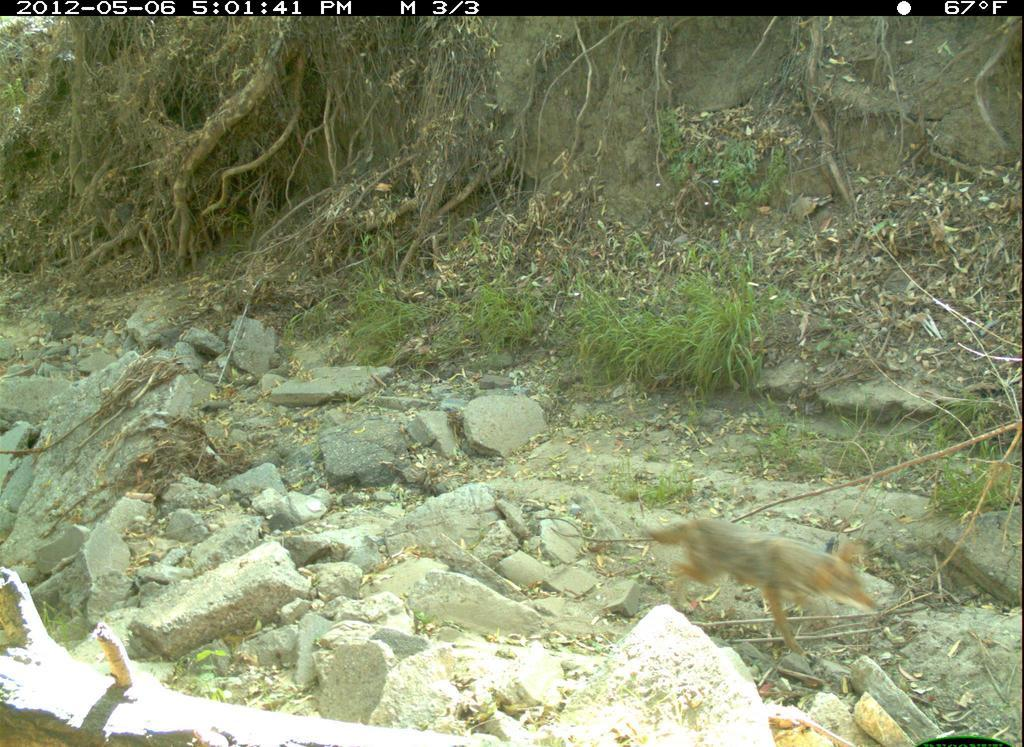coyote: (638, 516, 889, 661)
